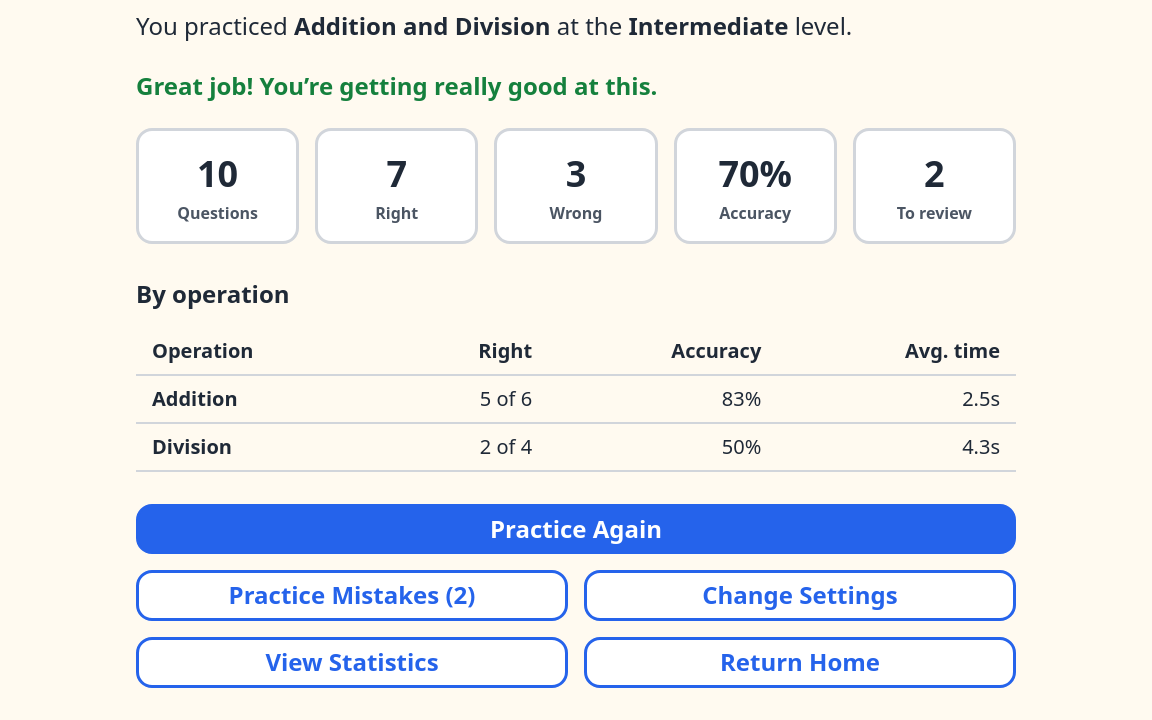
it: PracticeSummaryPage › Practice Again starts a new session with the same choices
(page scrolled)
Click the link "Practice Again": (576,529) [136, 504, 1016, 554]
(page scrolled)
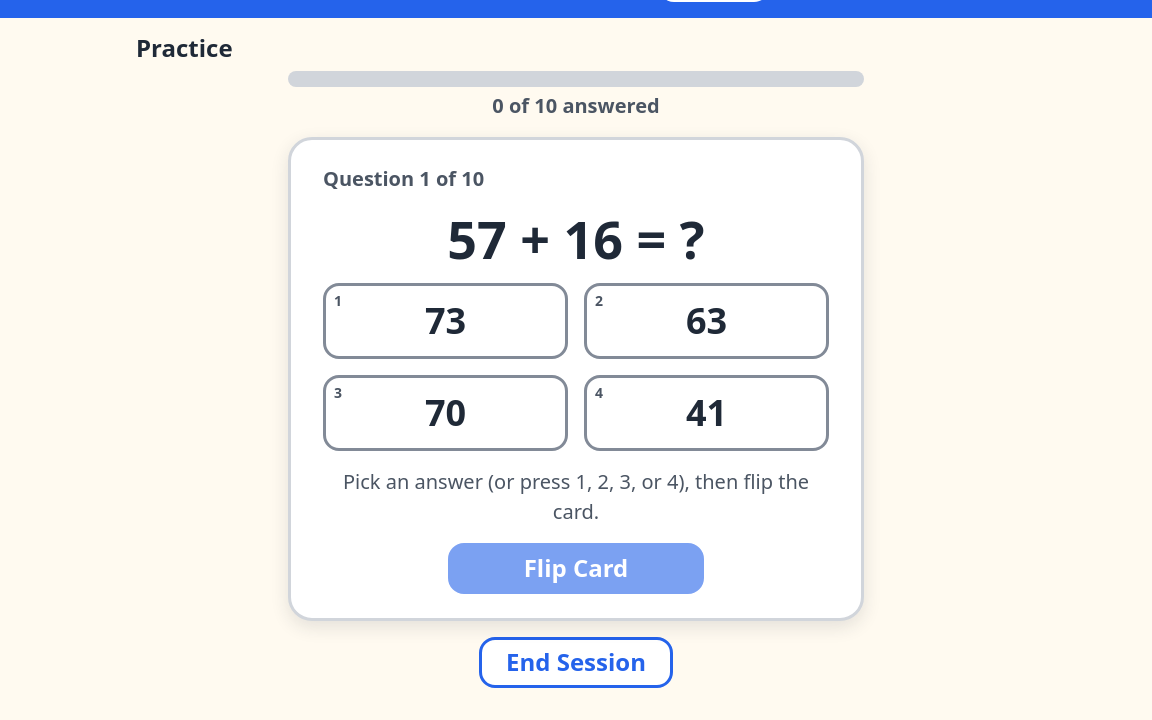
Check: the text "Question 1 of 10" is shown, box [323, 165, 484, 192]
Check: the heading "57 + 16 = ?" is shown, box [447, 203, 705, 274]
